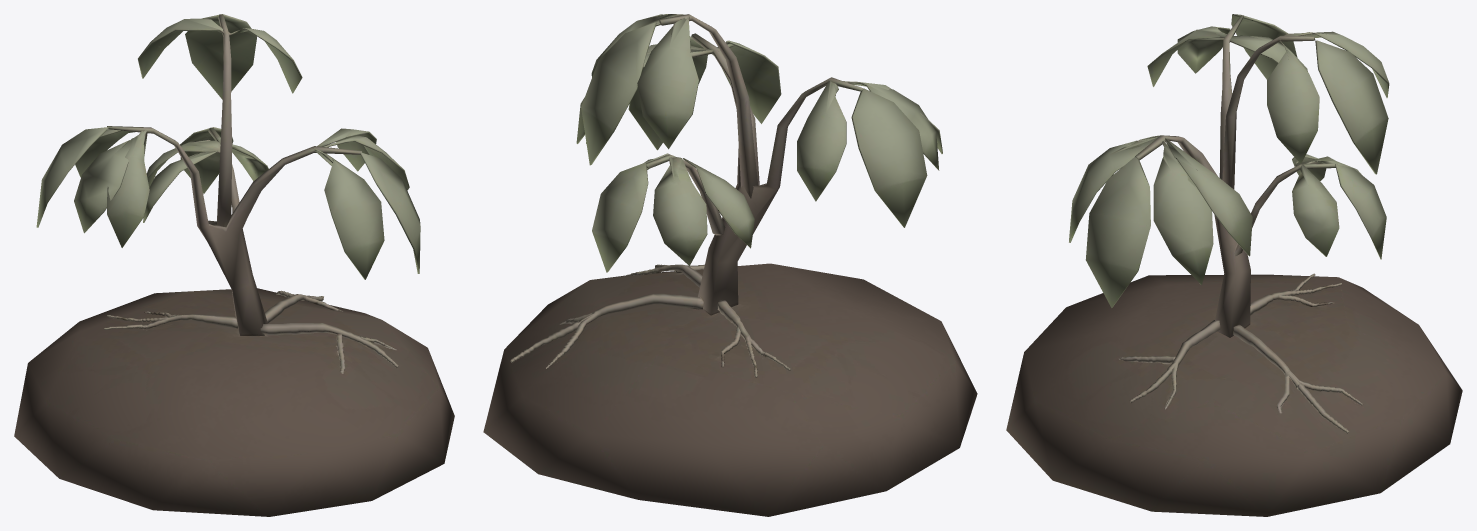
File: wood_nourish_t3.glb
3 renders of one model, left to right at view 1: azimuth 30°, elevation 25°; view 2: azimuth 150°, elevation 25°; view 3: azimuth 270°, elevation 25°, orthographic. The views are drawn at different scales.
Parts seen in each view (by area): view 1: tripo_node_a8517588-253f-433f-b8ac-73e321f123e3; view 2: tripo_node_a8517588-253f-433f-b8ac-73e321f123e3; view 3: tripo_node_a8517588-253f-433f-b8ac-73e321f123e3.
Part boxes in pixels (x1,y1,x2,y2): tripo_node_a8517588-253f-433f-b8ac-73e321f123e3: [14, 14, 454, 516]; tripo_node_a8517588-253f-433f-b8ac-73e321f123e3: [483, 14, 977, 516]; tripo_node_a8517588-253f-433f-b8ac-73e321f123e3: [1006, 14, 1462, 516].
Size of the model in its own units: 0.998 by 0.9551 by 0.998.
1 material, 1 textured.
